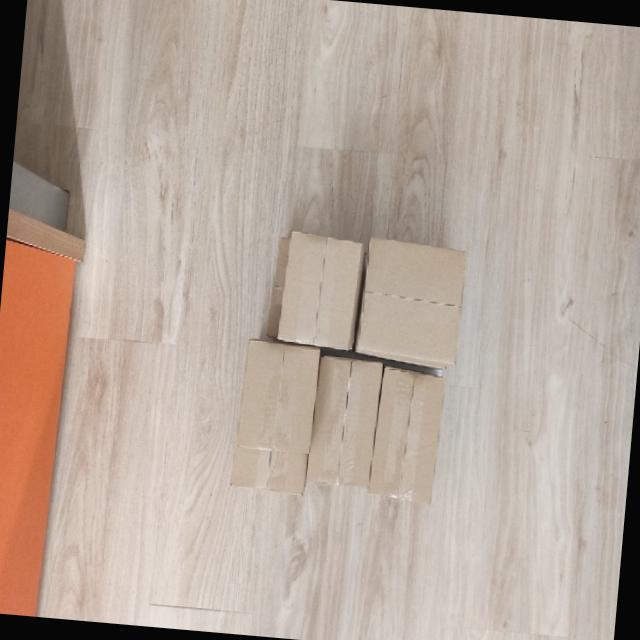box: (352, 233, 476, 367), (366, 364, 447, 504), (279, 222, 366, 351), (305, 353, 387, 489), (234, 335, 322, 452)
